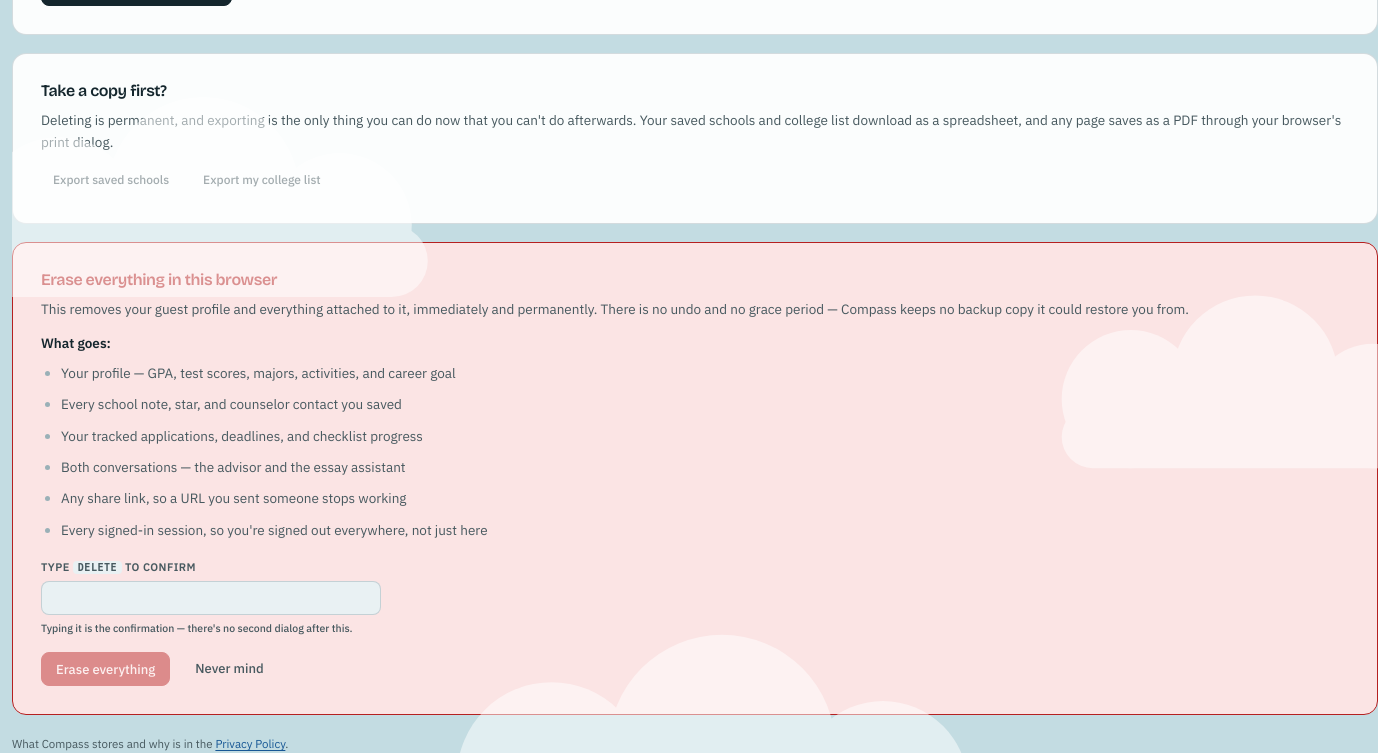
proving you meant it › accepts the word in any case, since the field upcases as you type
(page scrolled)
Type "delete" into the field labelled "Type DELETE to confirm".
click(211, 598); type("delete")  # box [41,581,381,615]
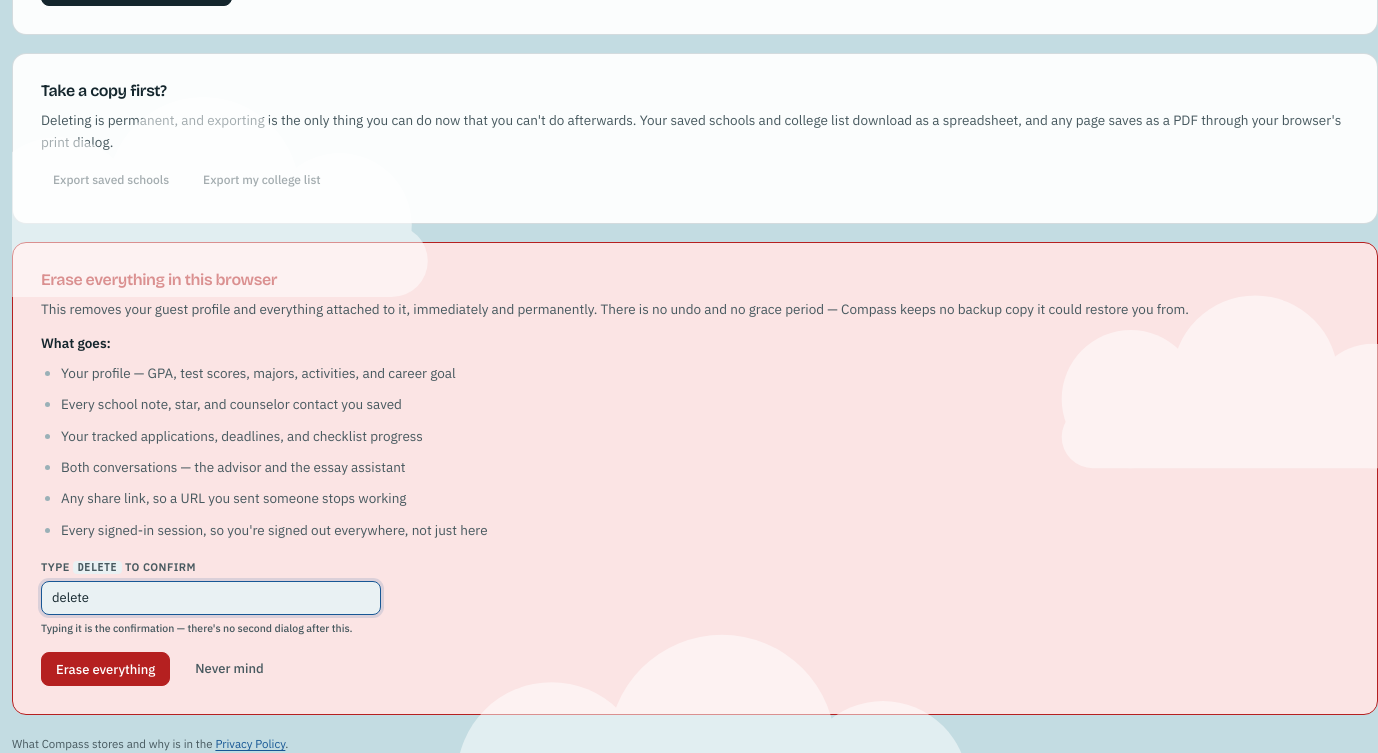
expect the button "Erase everything" is enabled: met, box [41,652,170,686]
